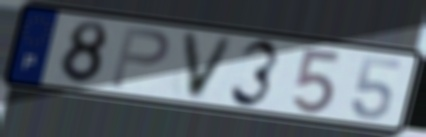3: (226, 38, 289, 110)
5: (289, 45, 346, 116), (348, 54, 404, 122)
8: (55, 19, 108, 87)
P: (107, 24, 172, 92)
V: (179, 29, 239, 103)
